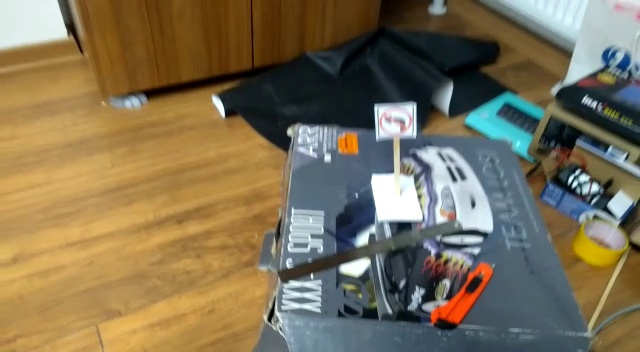sola_donulmez: (378, 108, 413, 136)
